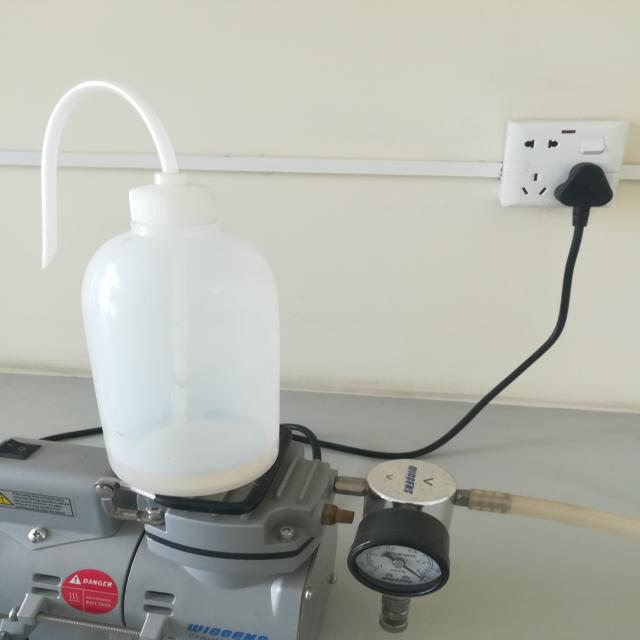Wash_Bottle: (5, 53, 325, 530)
